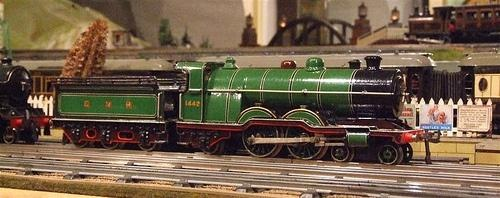train: (51, 48, 436, 150), (1, 58, 49, 144)
